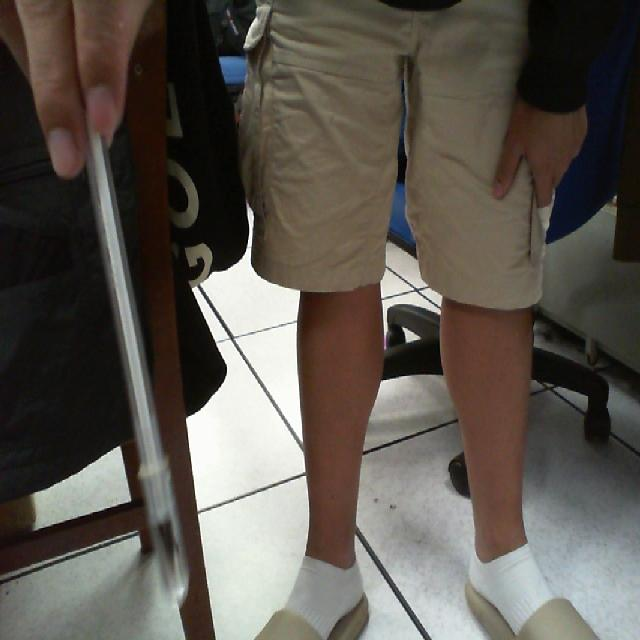Pen: (53, 64, 236, 609)
